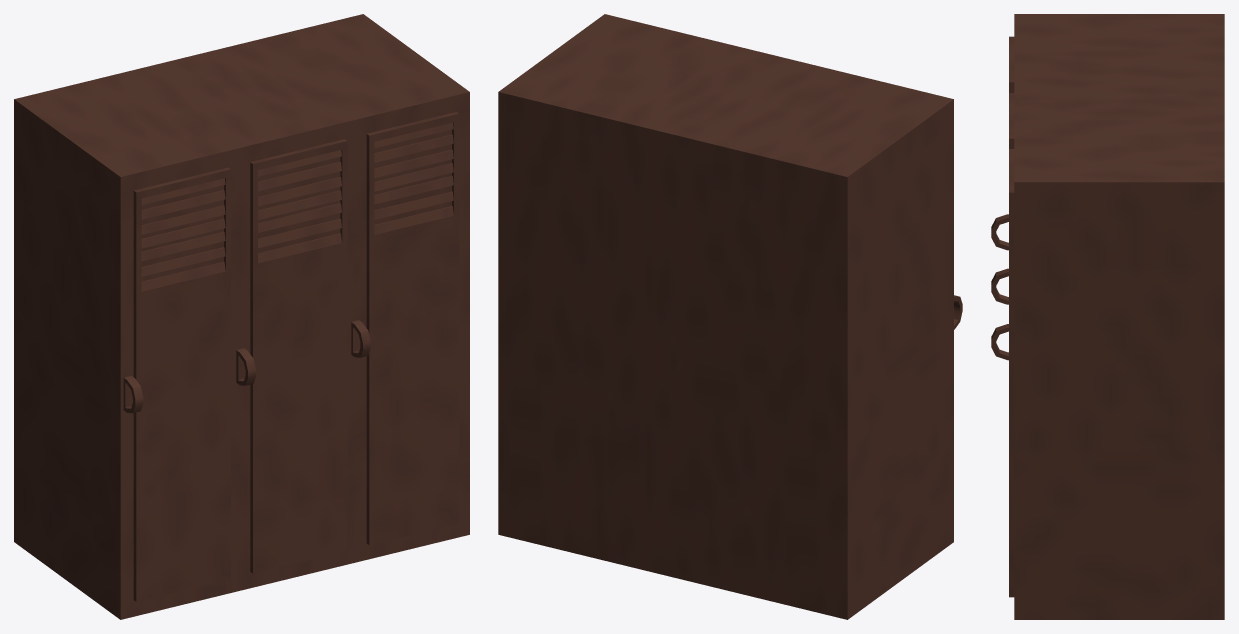
Rendered from IronWardrobe.fbx.
3 renders of one model, left to right at view 1: azimuth 30°, elevation 25°; view 2: azimuth 150°, elevation 25°; view 3: azimuth 270°, elevation 25°, orthographic.
Parts seen in each view (by area): view 1: Cube.023; view 2: Cube.023; view 3: Cube.023.
Boxes of the visible parts, <box> form: Cube.023: <box>14,14,469,619</box>; Cube.023: <box>498,14,962,619</box>; Cube.023: <box>991,14,1224,619</box>.
Size of the model in its own units: 232 by 281 by 136.
